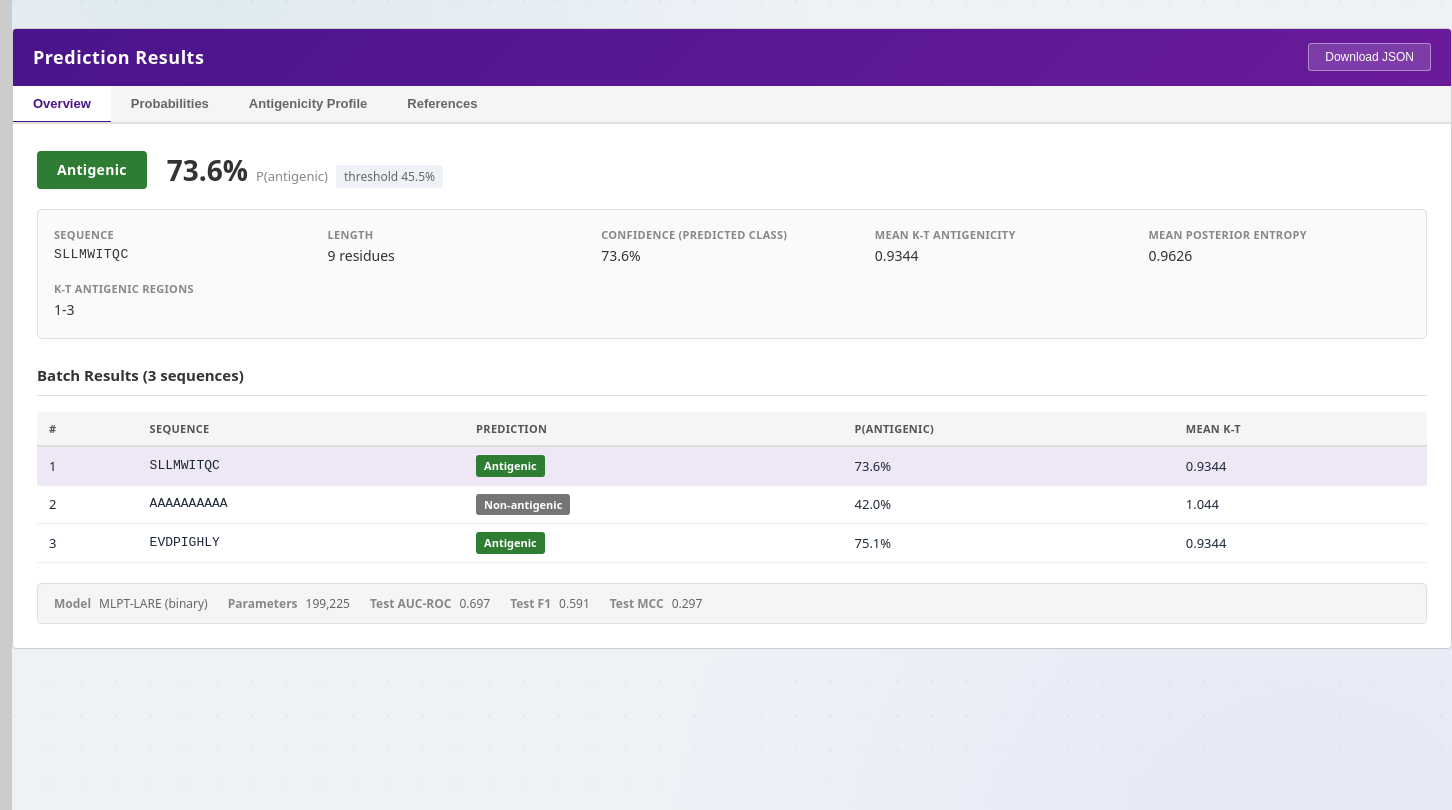
it: AntigenicResults (binary MLPT-LARE) › selects a different prediction in batch mode via row click
This screenshot has width=1452, height=810.
Expected: the text "Antigenic" in the row of "threshold" is shown, left=57, top=160, right=127, bottom=179
What coordinates should you click on to do the following:
click the row with class "batch-row" that starts with "AAAAAAAAAA"
I would click on:
 (732, 505)
Its box is left=37, top=485, right=1427, bottom=524.
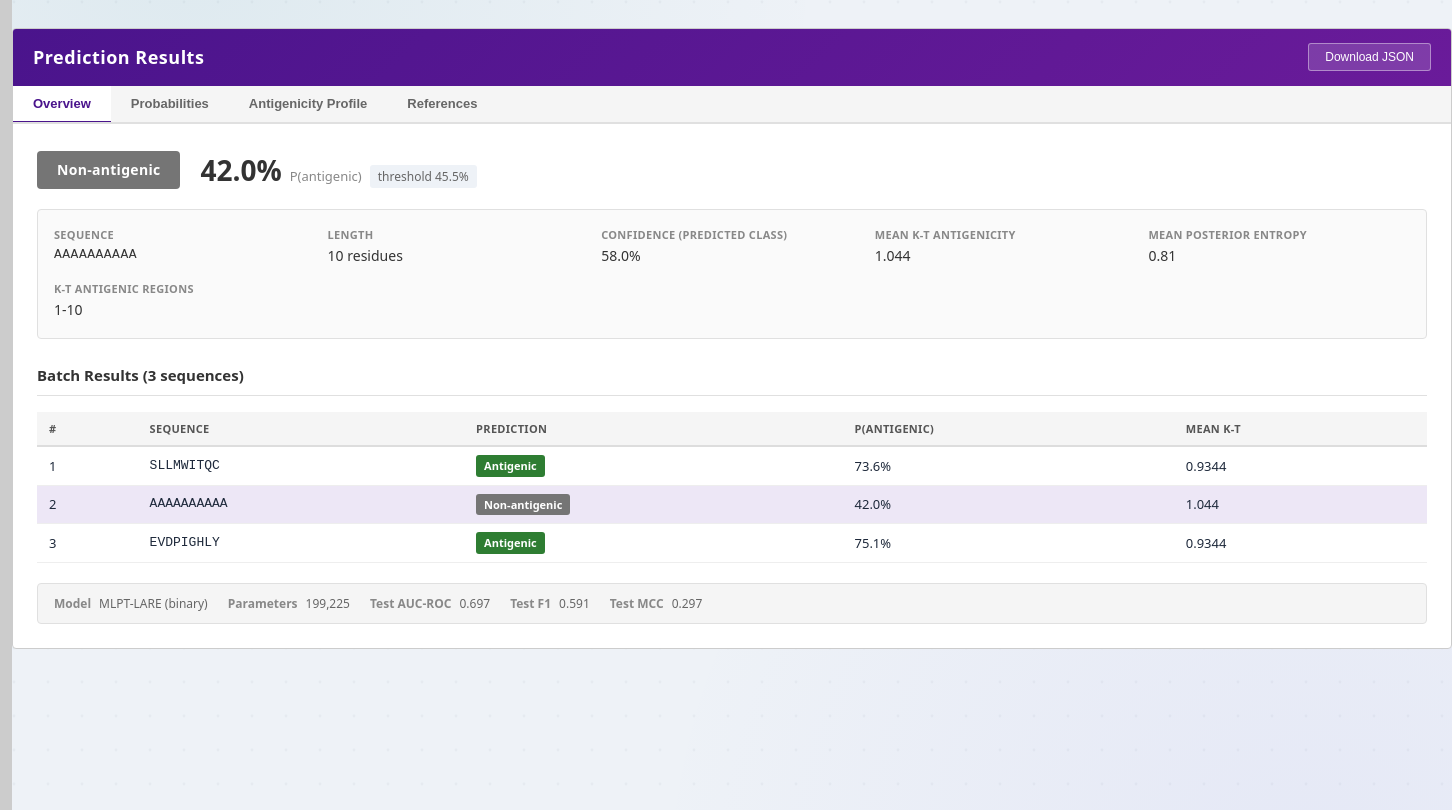
Result: the text "Non-antigenic" in the row of "threshold" is shown at left=57, top=160, right=160, bottom=179
